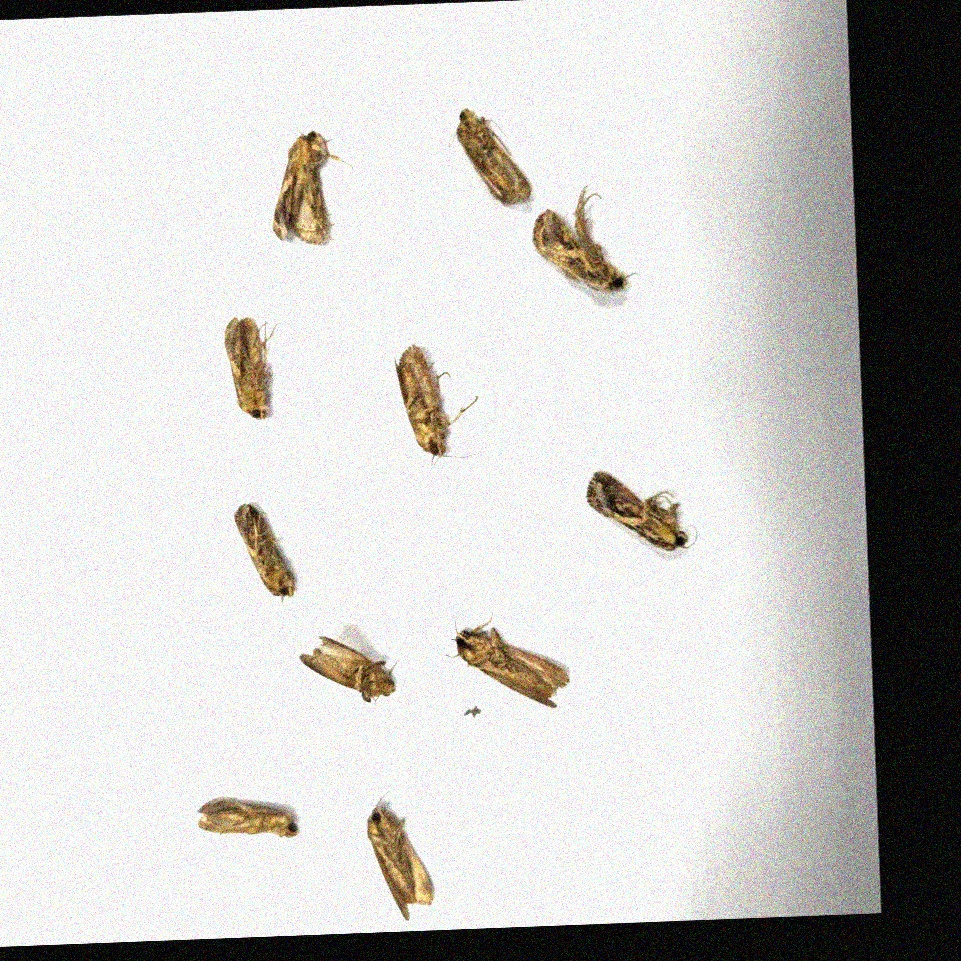Spodoptera litura: (443, 586, 568, 710), (532, 182, 641, 293), (394, 341, 489, 465), (269, 113, 356, 246), (365, 767, 432, 921), (299, 633, 416, 718), (197, 794, 306, 881), (585, 468, 697, 552), (447, 104, 531, 206), (234, 500, 311, 610), (224, 312, 284, 420)
